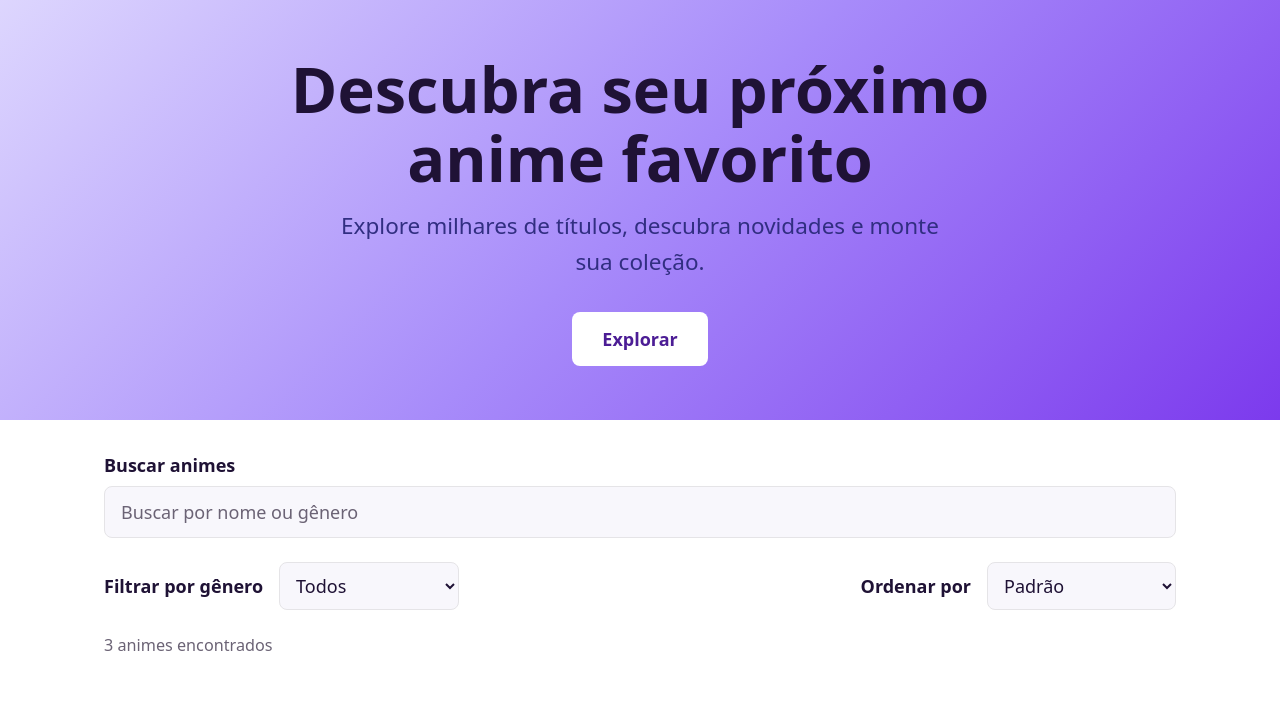
Test: Home › deve limpar busca, gênero e ordenação
This screenshot has width=1280, height=720.
Type "Naruto" into the search field labelled "Buscar animes" at (640, 512), box x1=104 y1=486 x2=1176 y2=538
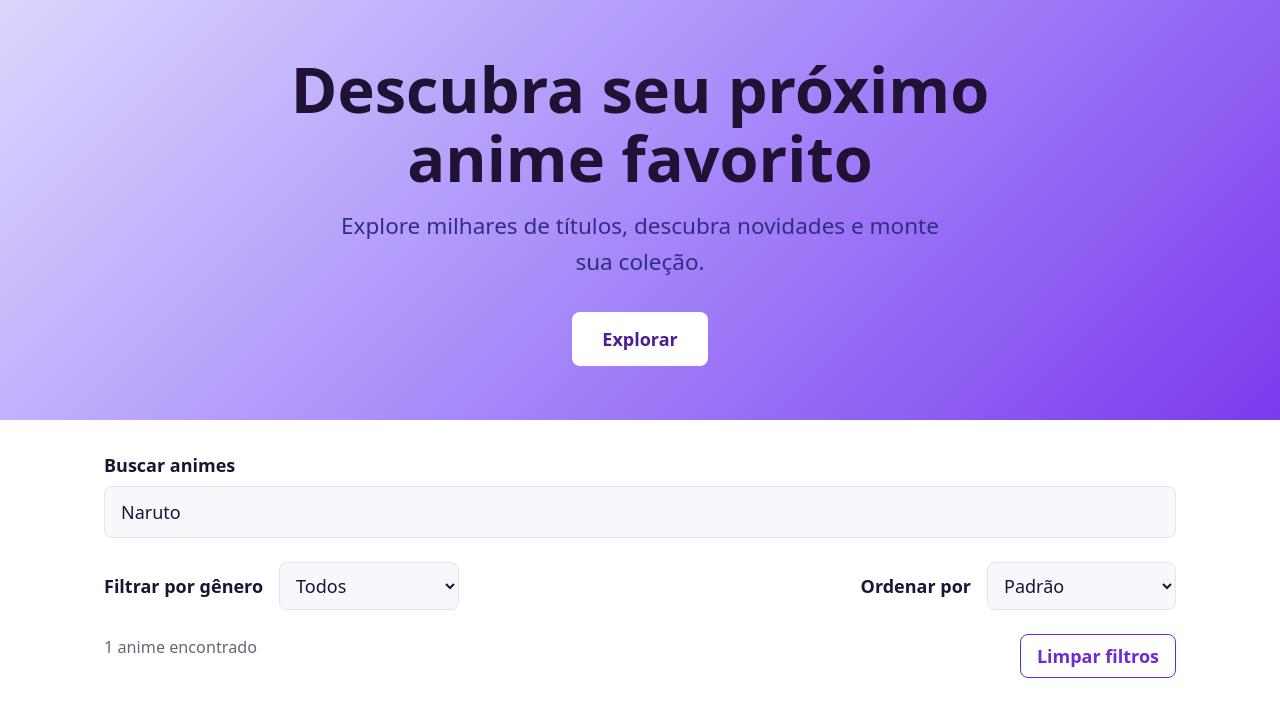
Select "Shonen" in the dropdown labelled "Filtrar por gênero" at (369, 586), box x1=279 y1=562 x2=459 y2=610
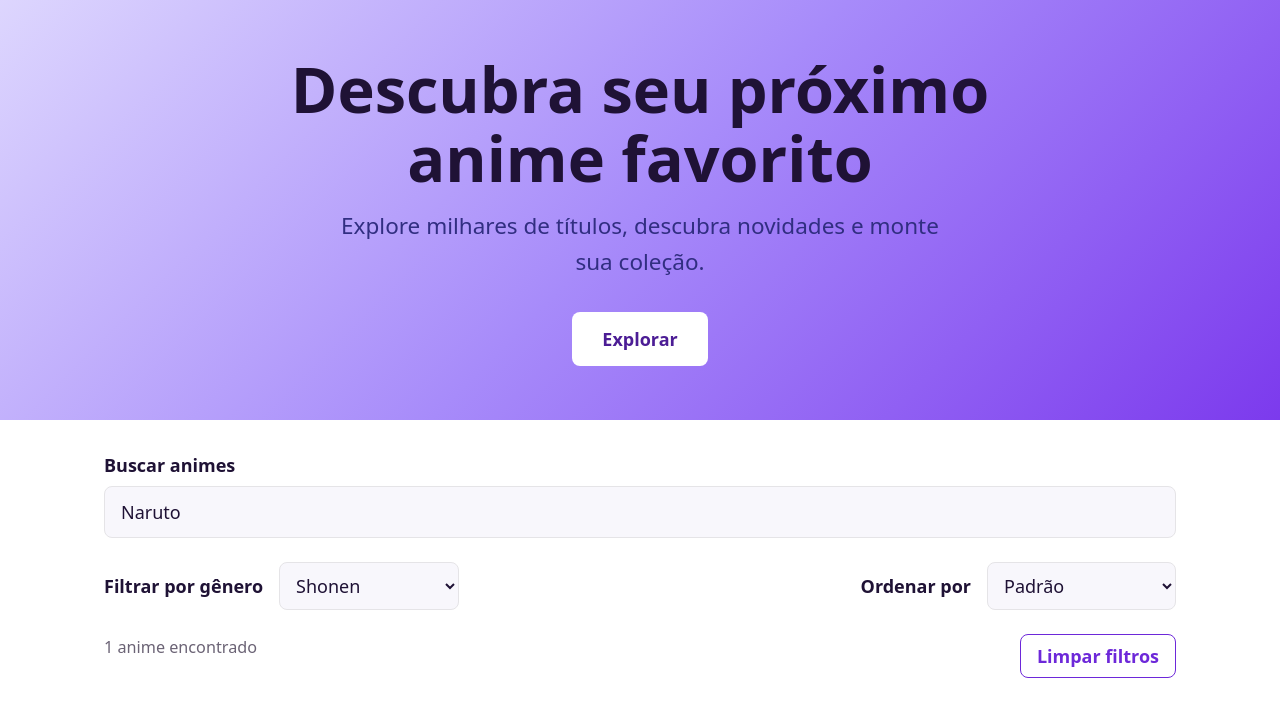
Select "Mais episódios" in the dropdown labelled "Ordenar por" at (1082, 586), box x1=987 y1=562 x2=1176 y2=610
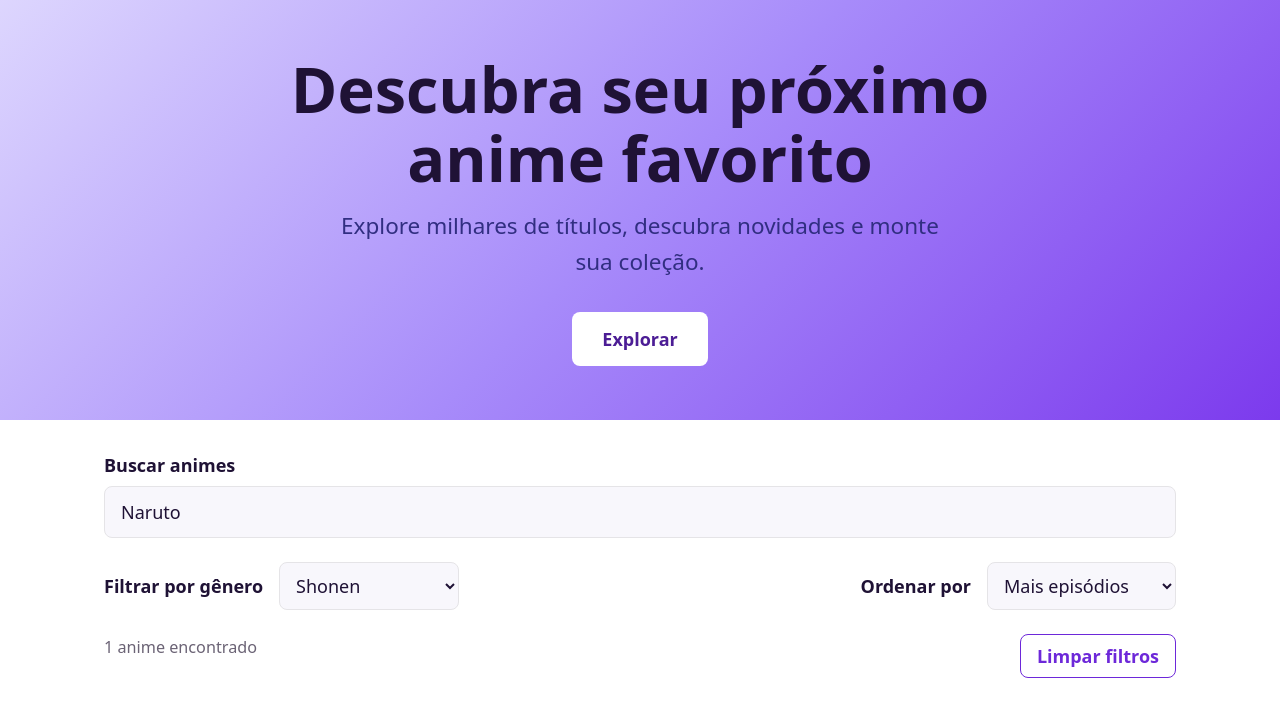
Click the button "Limpar filtros" at (1098, 656), box x1=1020 y1=634 x2=1176 y2=678
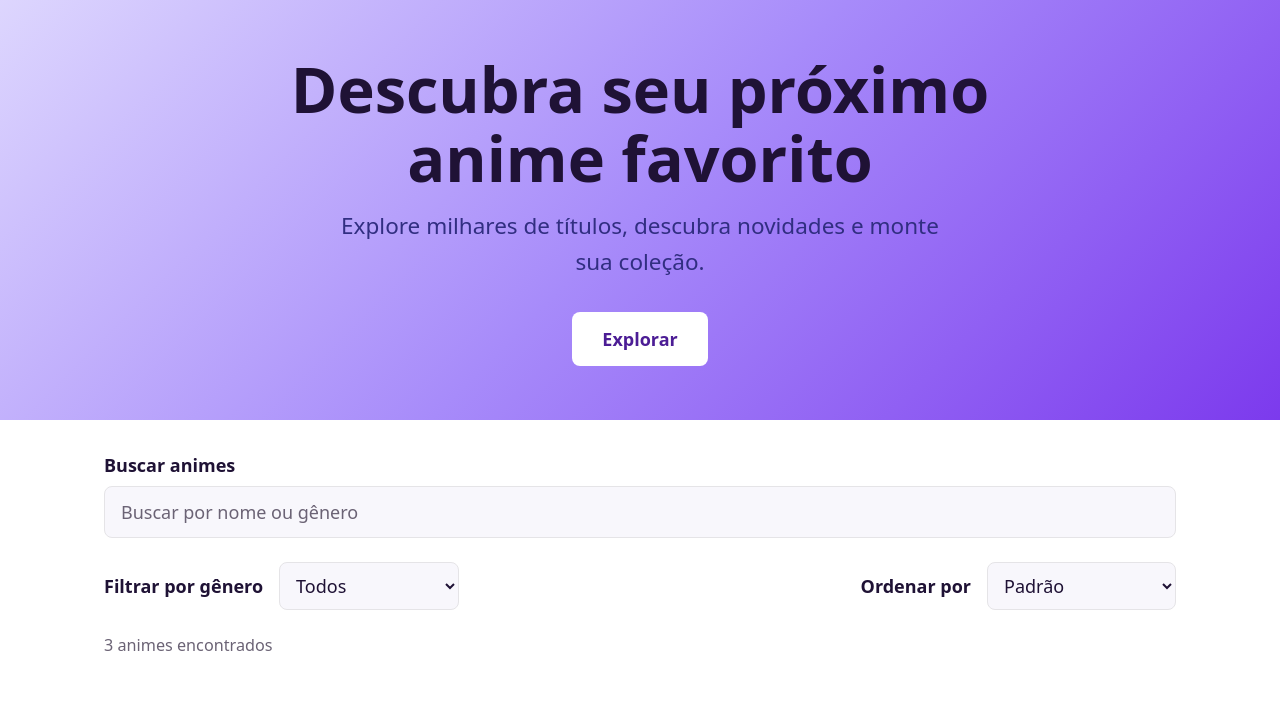
Expected: the search field labelled "Buscar animes" is empty, x1=104 y1=486 x2=1176 y2=538
Expected: the button "Limpar filtros" is gone
